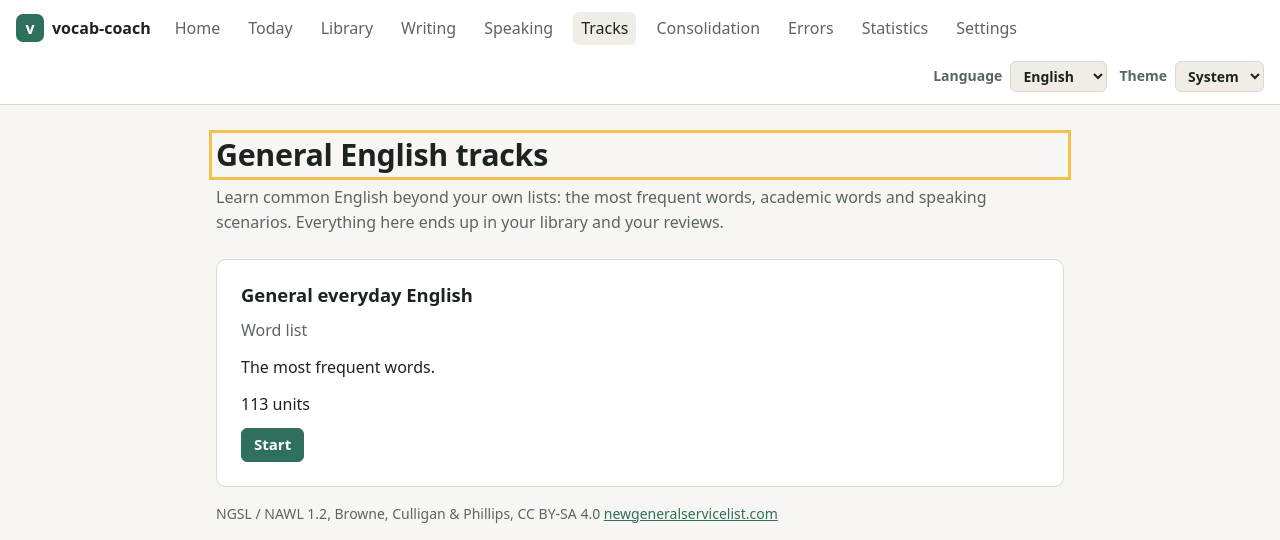
/curriculum › starts a track from its card, once, and goes to the track page
Click the button with aria-label "Start the track “General everyday English”" at (273, 445), box x1=241 y1=428 x2=304 y2=462
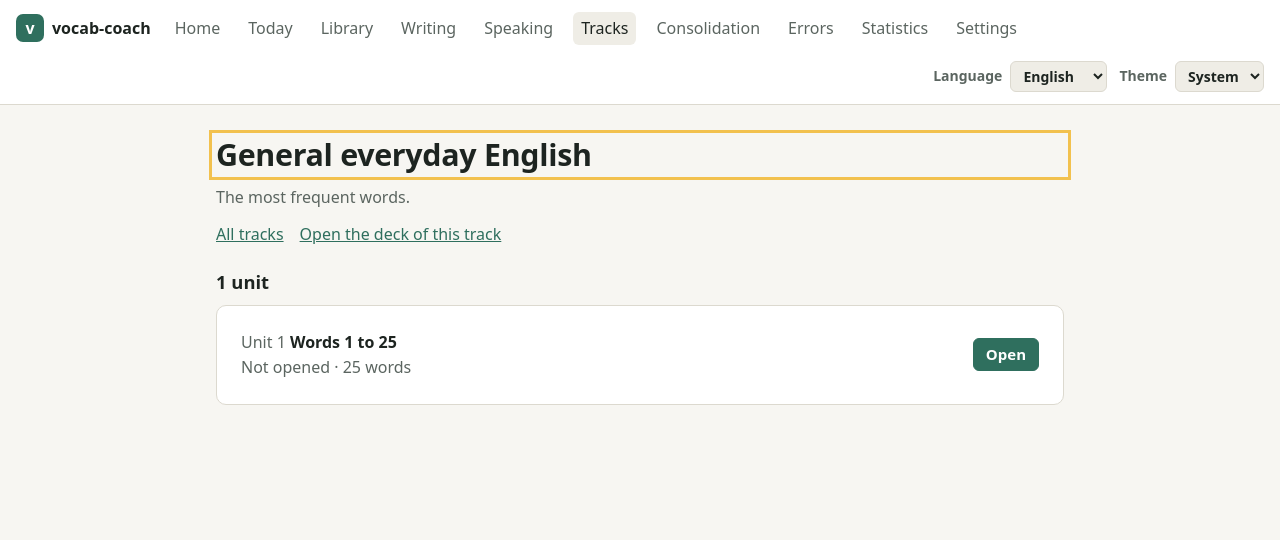
Now the heading "General everyday English" is shown, box x1=216 y1=134 x2=592 y2=175
